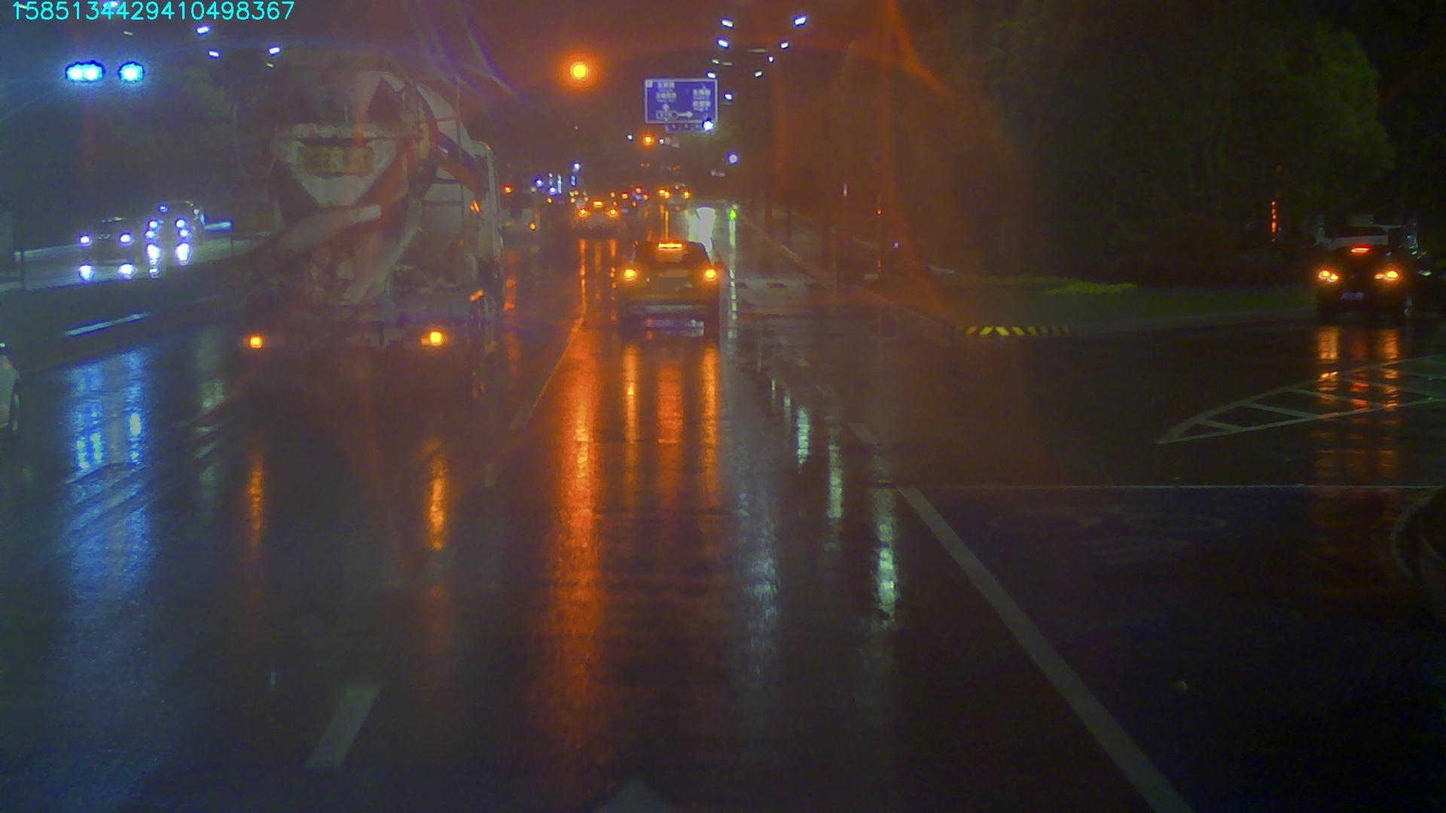red: (566, 52, 591, 75)
